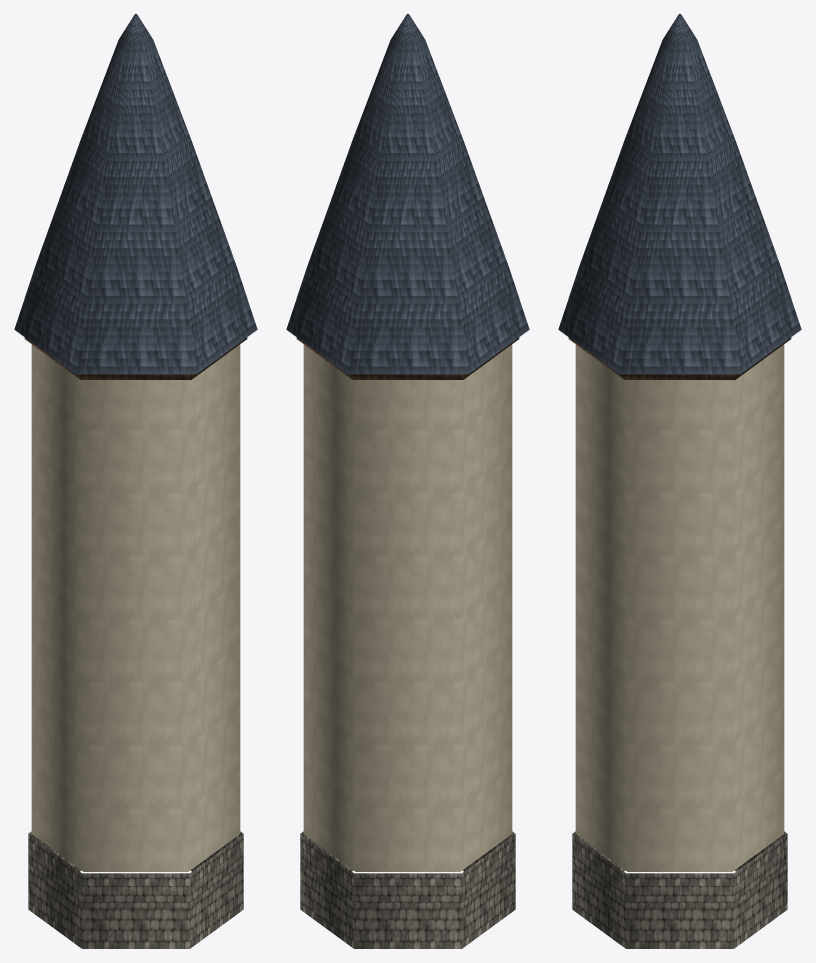
Rendered from Turret_Corner_1_LOD2.gltf.
The picture shows the model from 3 angles, left to right: view 1: azimuth 30°, elevation 25°; view 2: azimuth 150°, elevation 25°; view 3: azimuth 270°, elevation 25°; orthographic projection.
Visible parts, largest first — view 1: Turret_Corner_1_LOD2; view 2: Turret_Corner_1_LOD2; view 3: Turret_Corner_1_LOD2.
Part boxes in pixels (bbox=[...]): Turret_Corner_1_LOD2: bbox=[14, 14, 257, 948]; Turret_Corner_1_LOD2: bbox=[286, 14, 529, 948]; Turret_Corner_1_LOD2: bbox=[558, 14, 801, 948].
Bounding box in the file's own units: 3.03 × 14.2 × 3.5.
4 materials, 4 textured.
